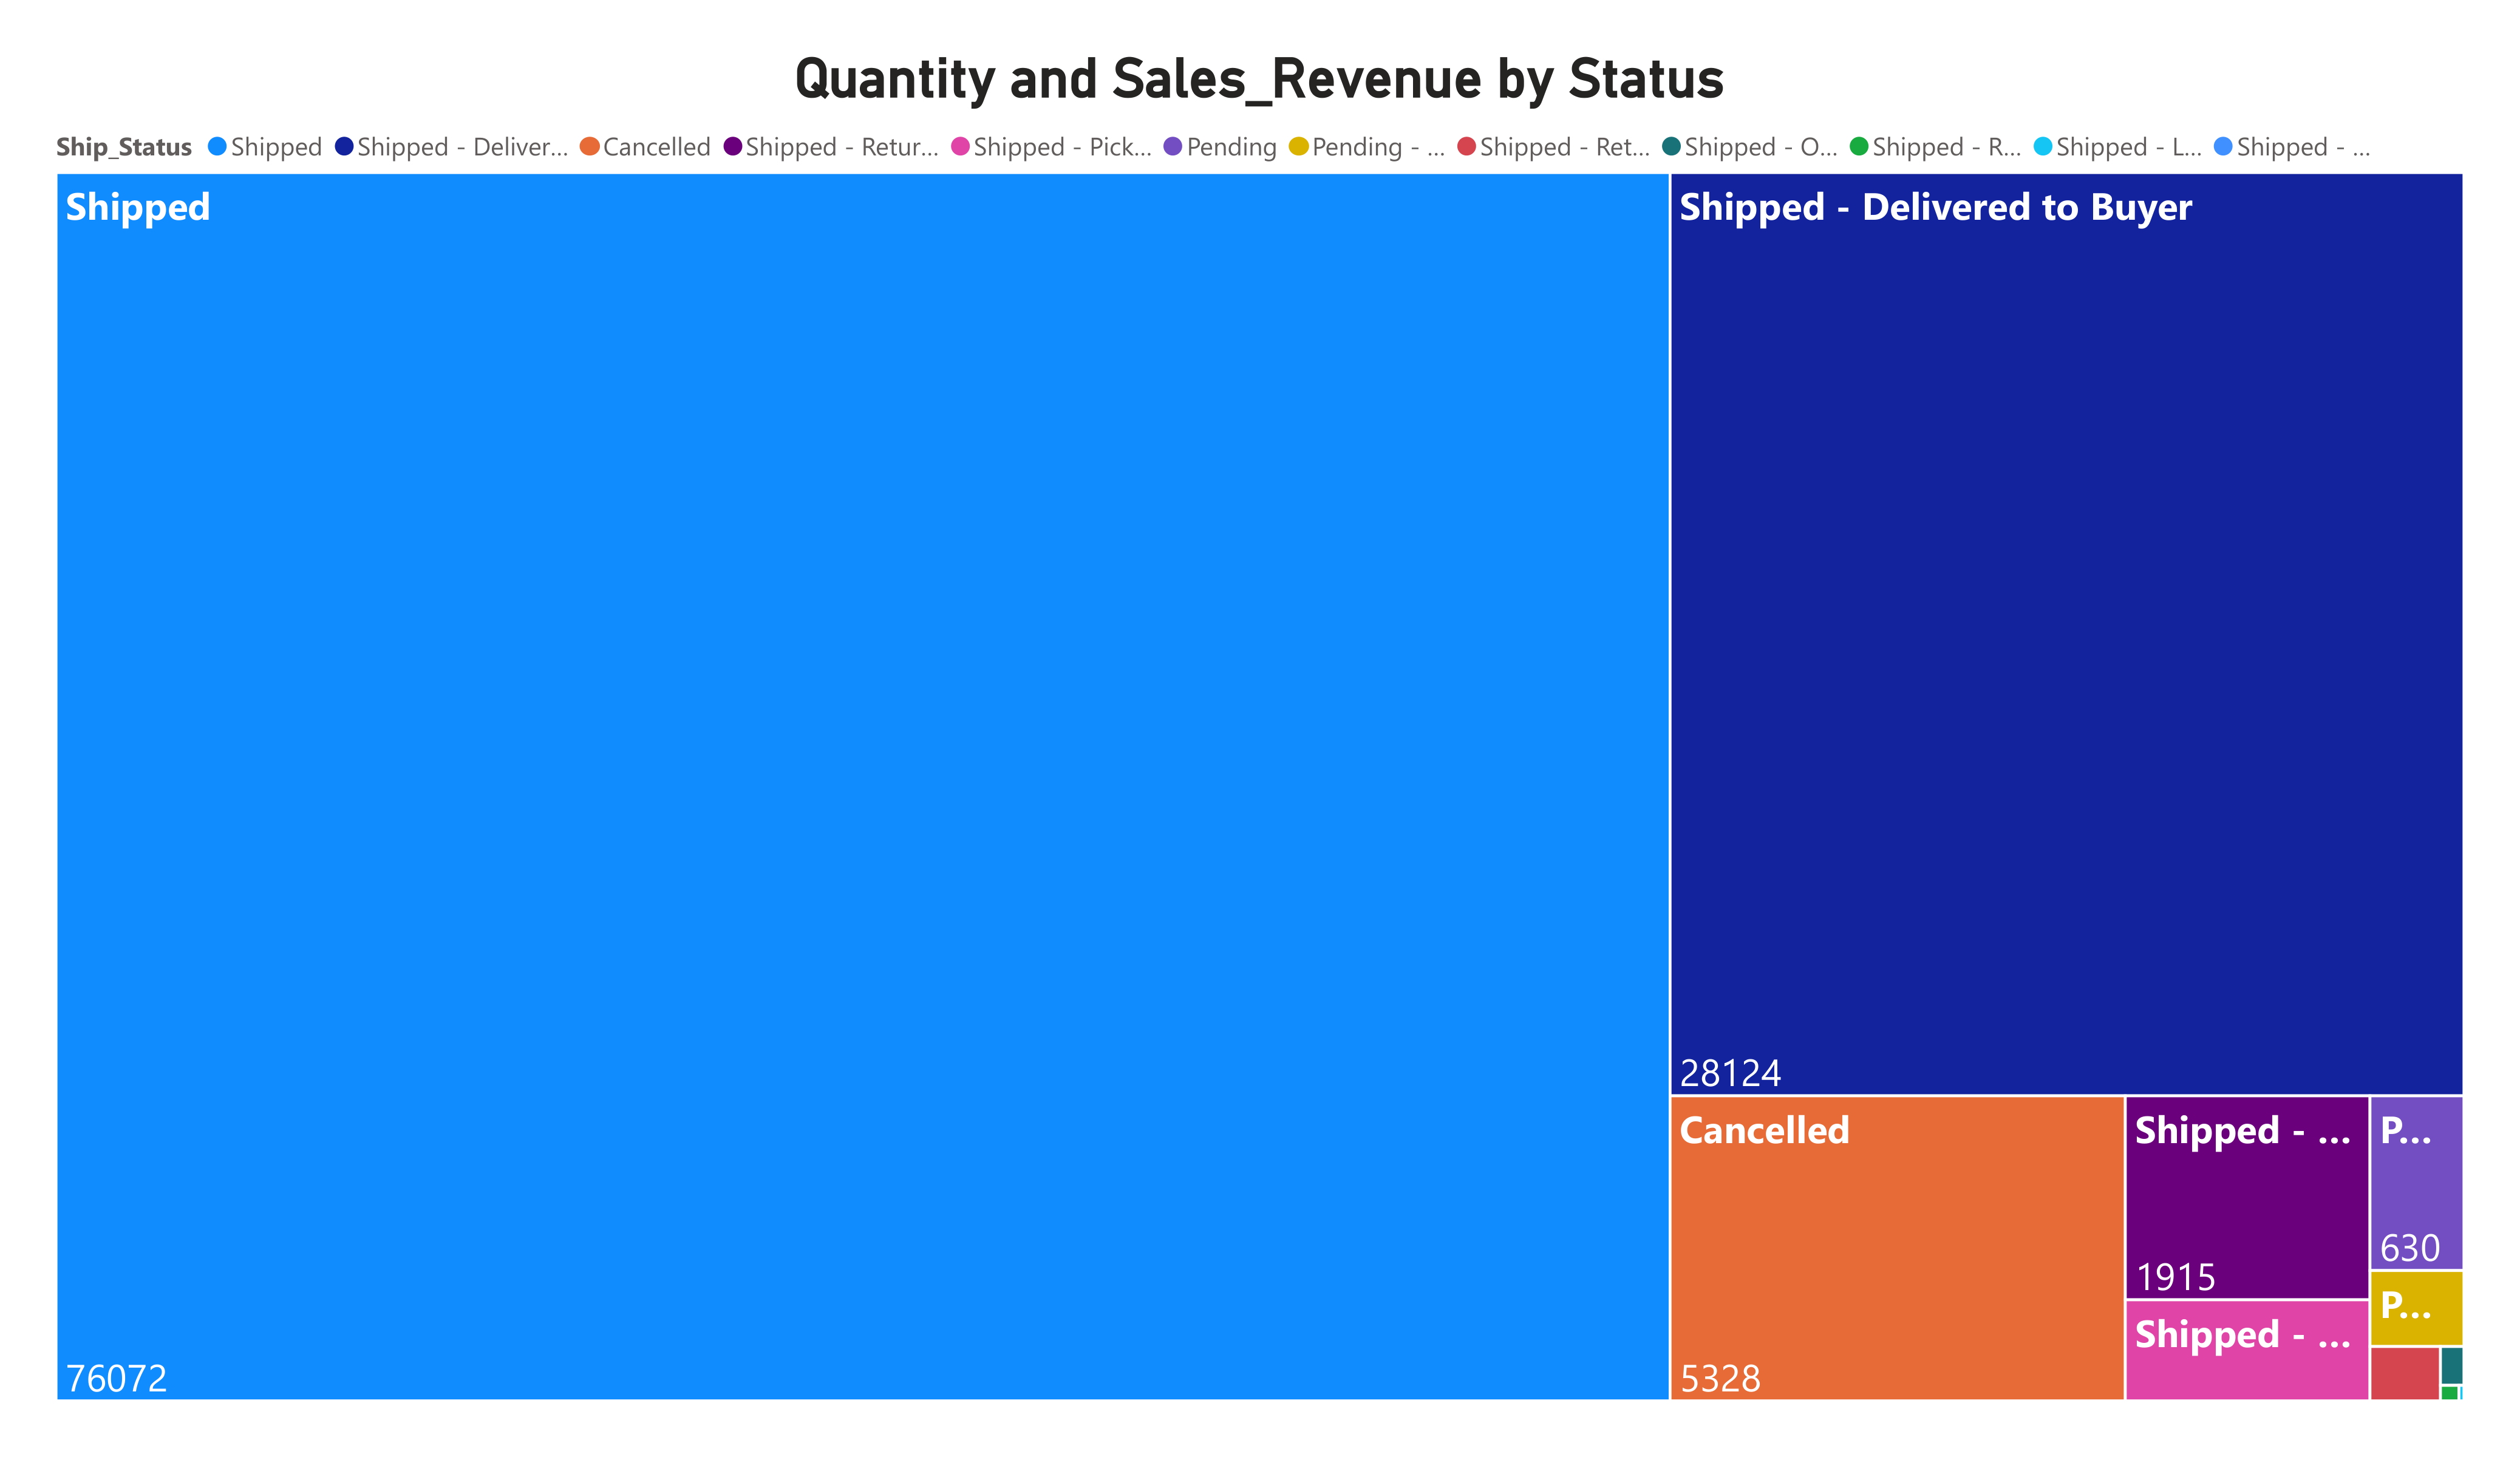

The page's visual inventory and layout, read from the dashboard file:
{"tool":"powerbi","page":{"name":"Quantity and Sales_Revenue by Status","canvas":[1280,720],"ordinal":5},"visuals":[{"type":"treemap","title":"Quantity and Sales_Revenue by Status","fields":{"Values":["Sum(Amazon3.Quantity)"],"Group":["Amazon3.Ship_Status"]},"box":[0,0,1279.8,720],"z":0}]}

Visuals, with their boxes in screenshot pixels (x1, y1, x2, y2):
"Quantity and Sales_Revenue by Status" treemap: region(46, 46, 2474, 1411)
